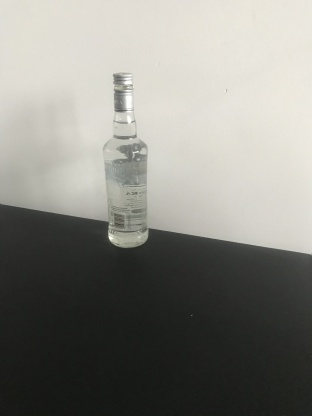nakretka: (111, 71, 135, 112)
